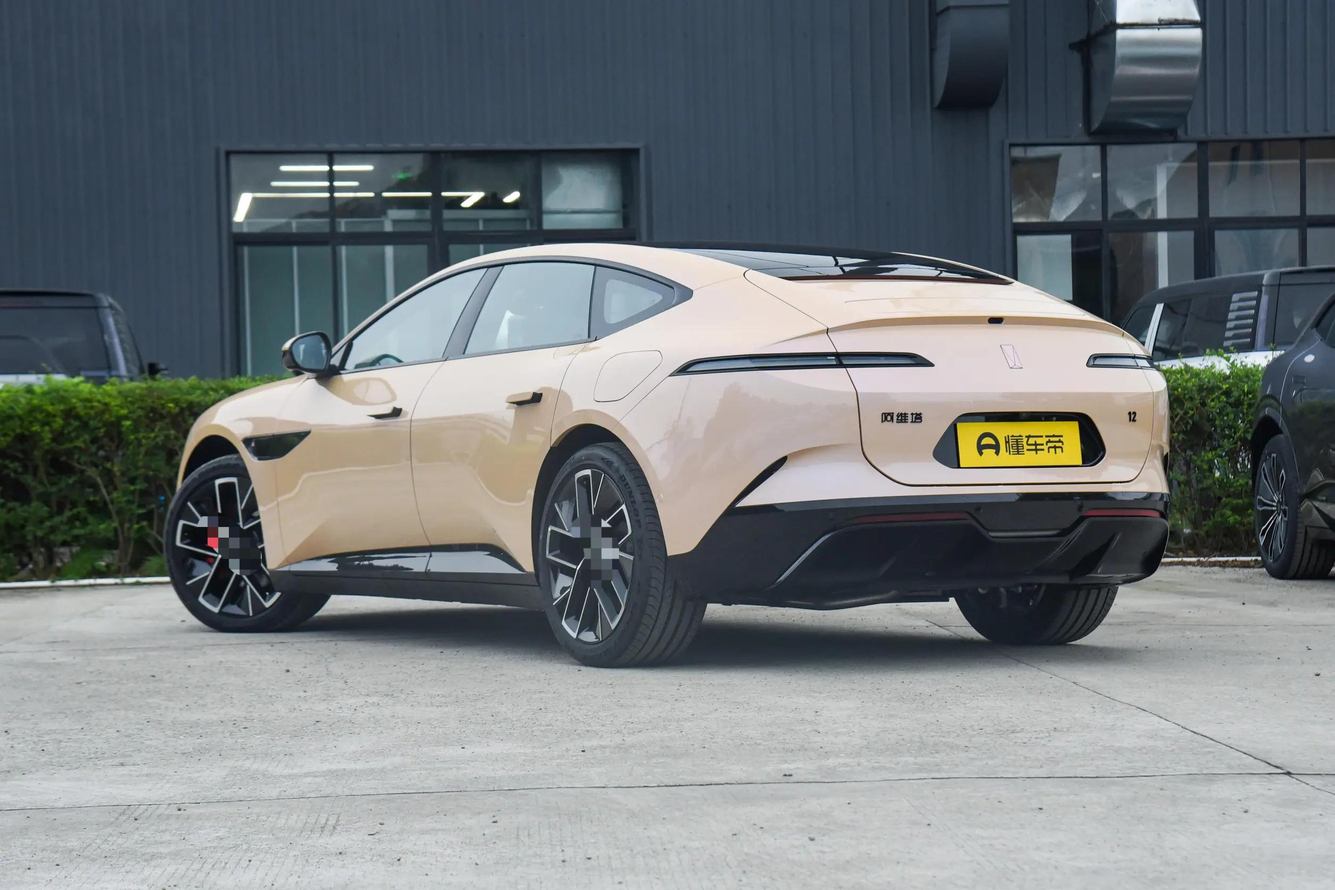AVATR: (1000, 344, 1023, 368)
